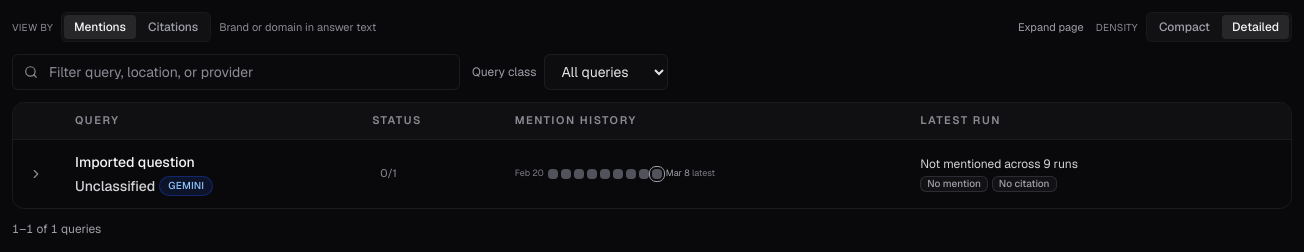
Test: never treats missing classification as non-brand and names an empty selected class
Select "Non-brand" in the dropdown labelled "Query class". click: (606, 72)
box: [544,54,668,90]
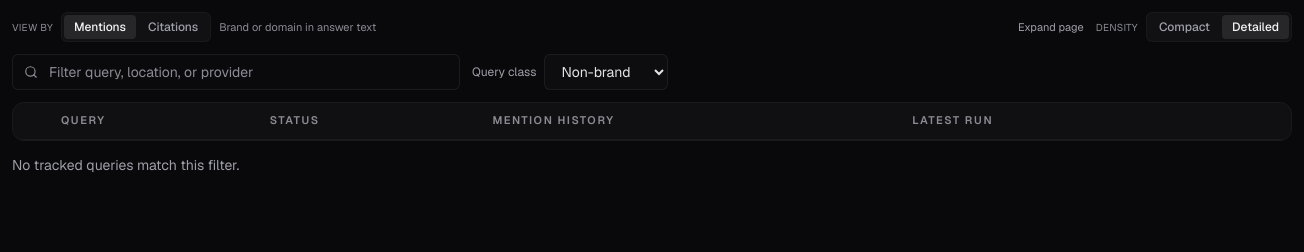
Now the button "Imported question" is gone
Now the text "No tracked queries match this filter." is shown, box [12,156,239,174]
Select "Unclassified" in the dropdown labelled "Query class". click: (606, 72)
box: [544,54,668,90]
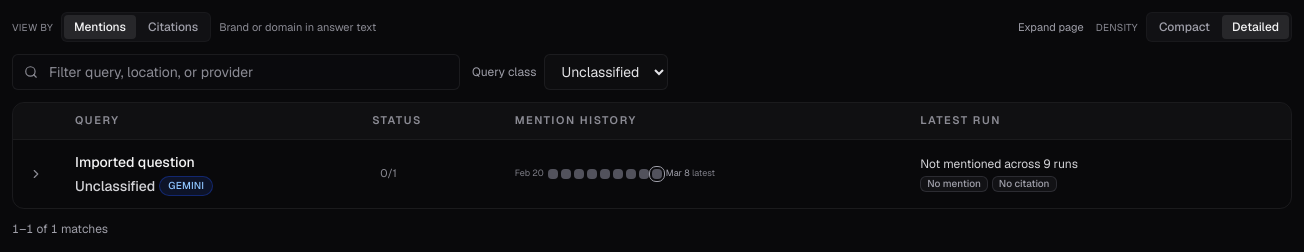
Now the text "Imported question" is shown, box [75,153,195,171]
